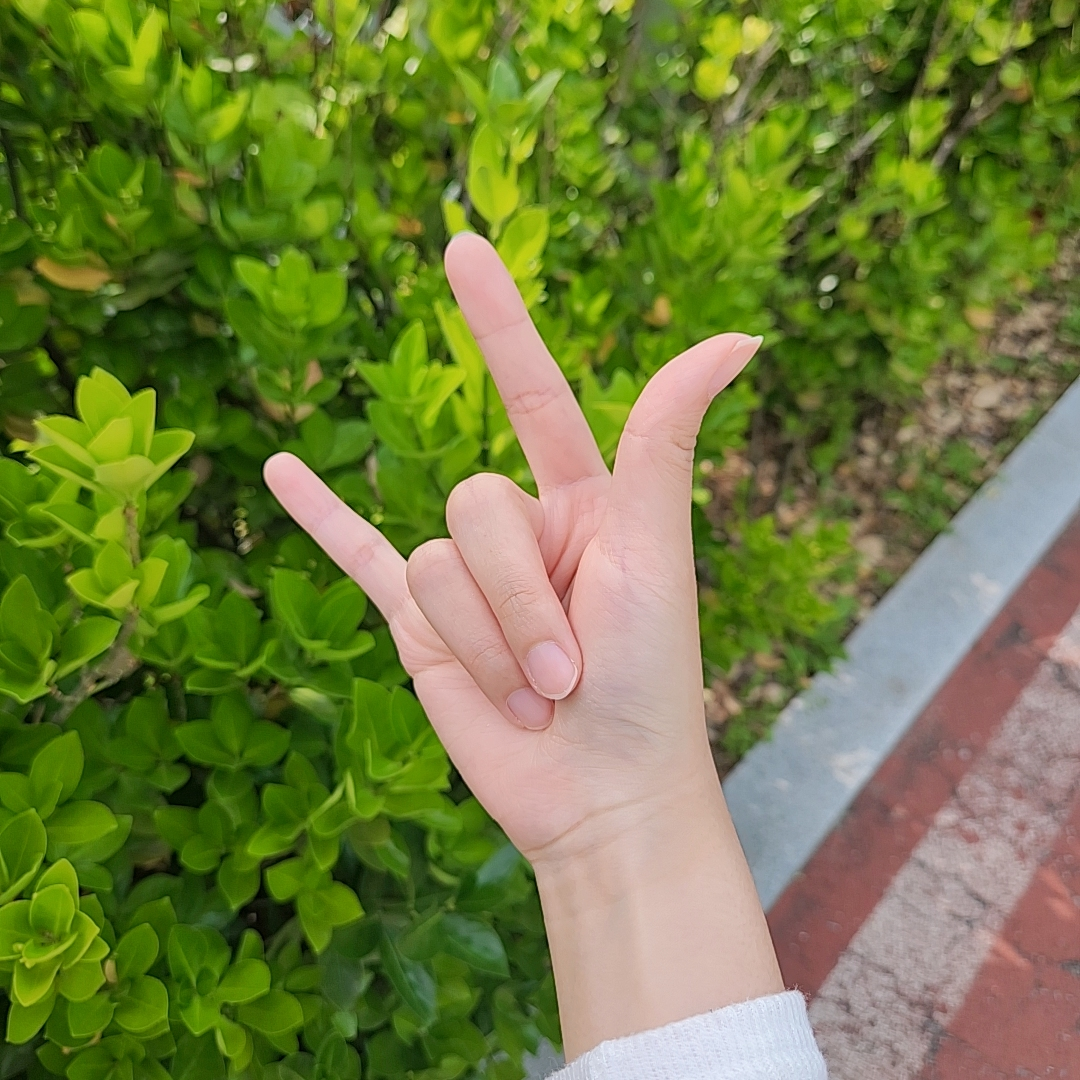iloveyou: (263, 233, 767, 840)
